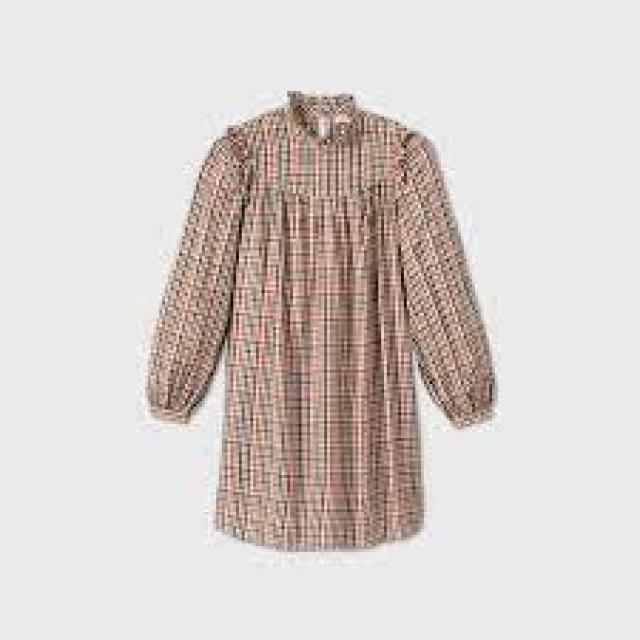plaid: (145, 83, 498, 562)
